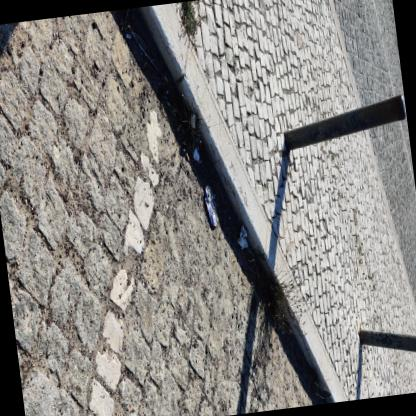Metal: (203, 184, 216, 226), (206, 186, 209, 195)
Paper: (236, 226, 246, 248), (192, 148, 198, 163), (190, 112, 194, 127), (162, 71, 167, 83), (211, 198, 215, 207), (184, 152, 188, 161), (176, 123, 180, 132), (141, 60, 145, 69), (225, 251, 227, 265), (171, 107, 176, 112), (125, 33, 130, 38), (197, 159, 201, 164), (212, 205, 215, 211), (216, 214, 217, 222)
Plastic: (126, 24, 168, 80)
